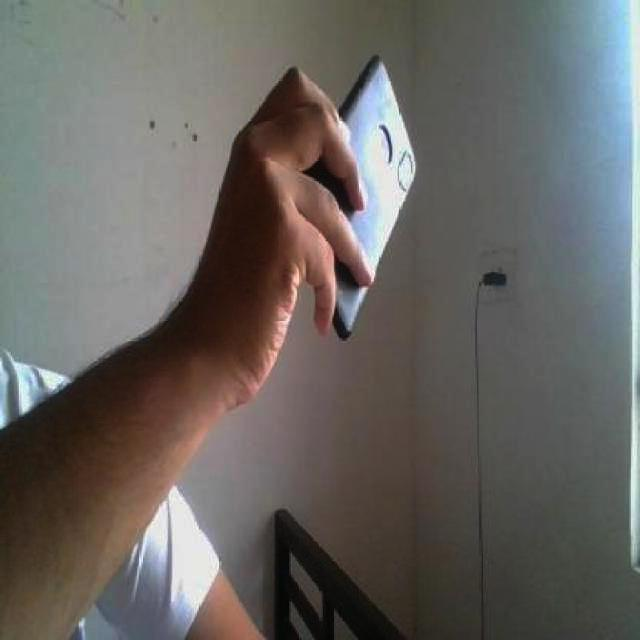mobile: (268, 44, 454, 336)
